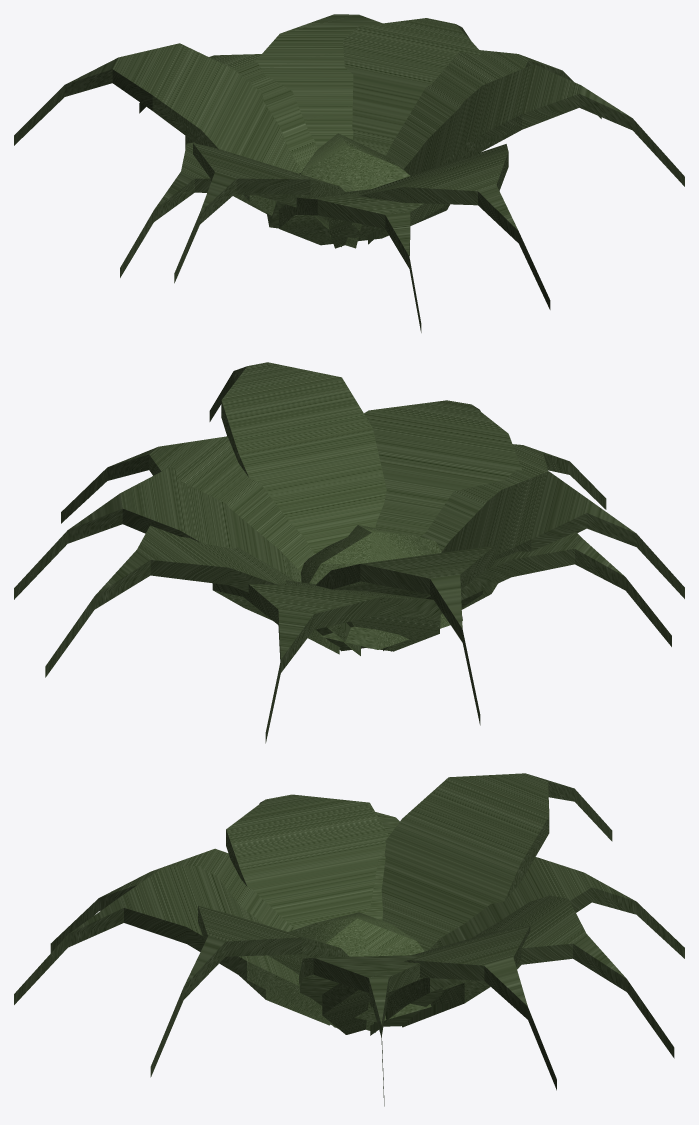
The model's file is fern_3.glb.
The picture shows the model from 3 angles, top to bottom: view 1: azimuth 30°, elevation 25°; view 2: azimuth 150°, elevation 25°; view 3: azimuth 270°, elevation 25°; orthographic projection. The views are drawn at different scales.
Parts seen in each view (by area): view 1: fern_3; view 2: fern_3; view 3: fern_3.
Part boxes in pixels (box(x1,y1,x2,y2)): fern_3: box(14, 14, 684, 332); fern_3: box(14, 362, 684, 743); fern_3: box(14, 773, 684, 1106).
Bounding box in the file's own units: 1.79 × 0.5047 × 1.88.
Materials: 1 (1 with a texture image).
